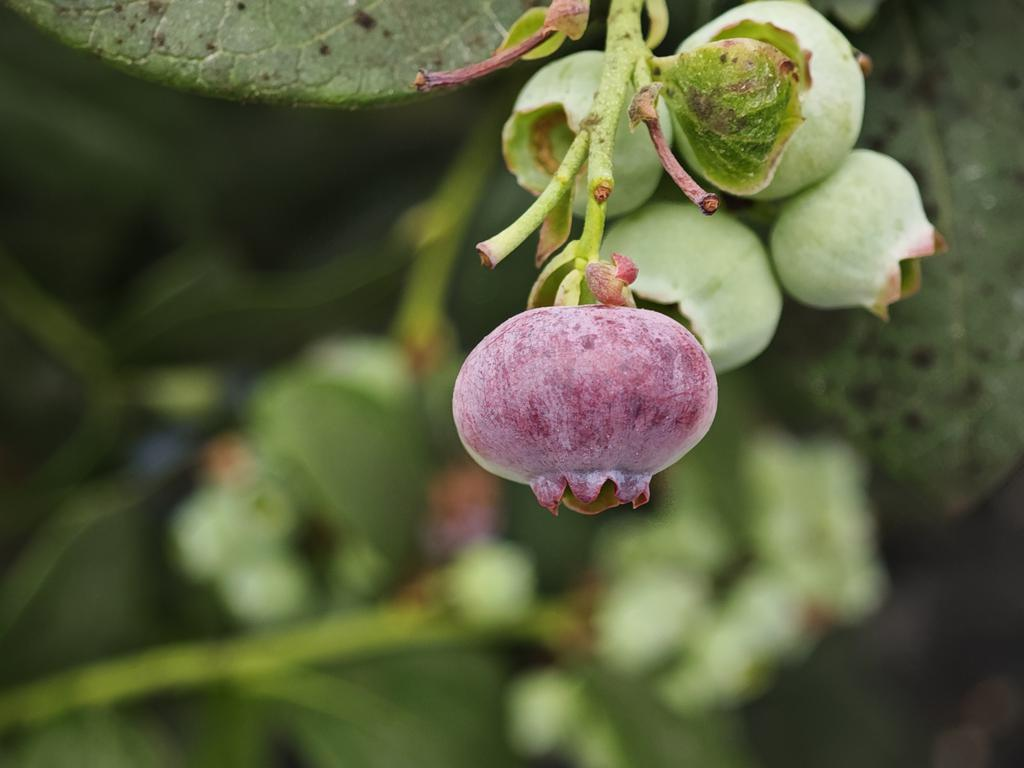Semi-RipeBlueBerry: (450, 299, 720, 509)
